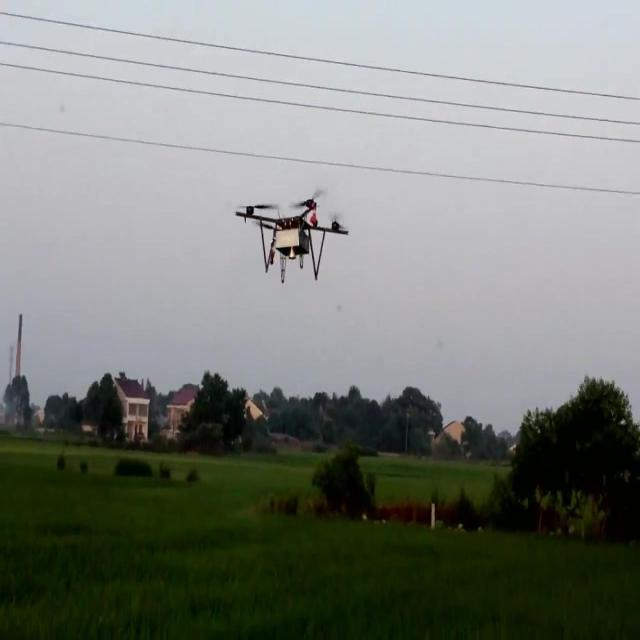drone: (234, 190, 351, 286)
